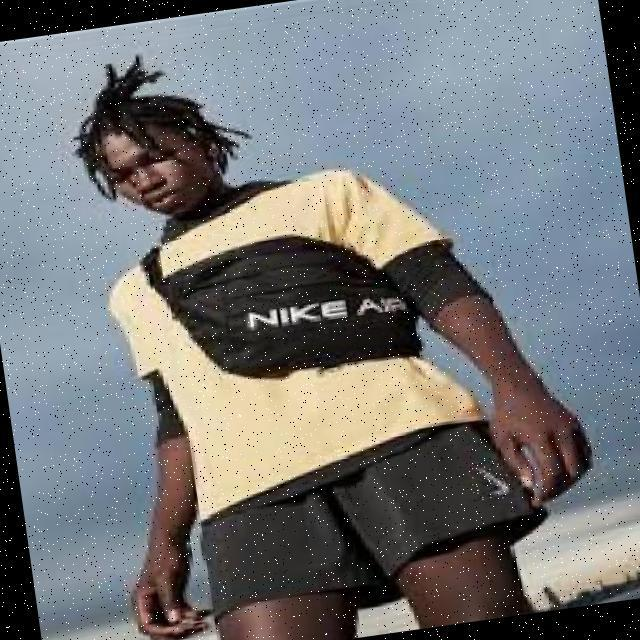Nike: (470, 459, 511, 503)
